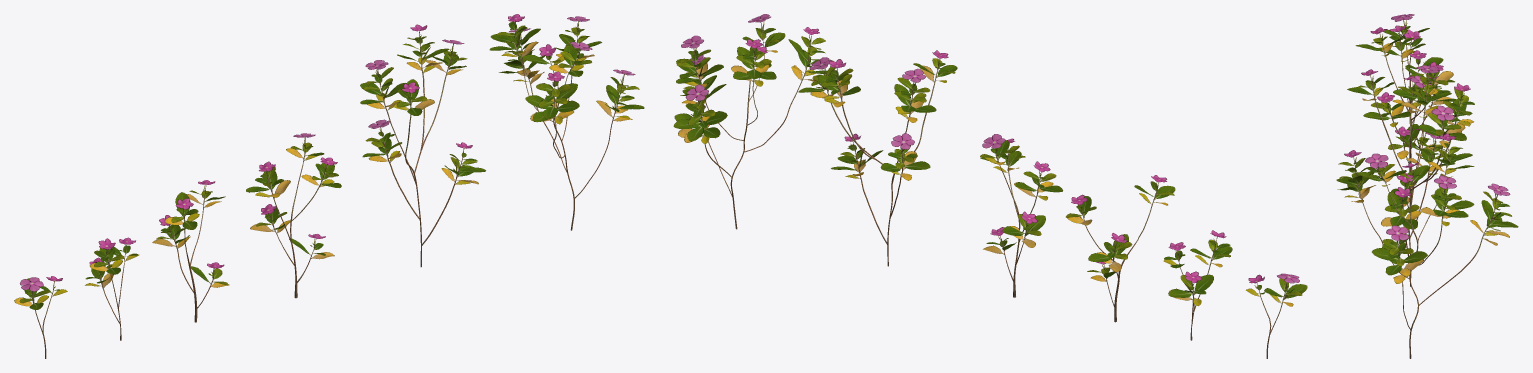
File: periwinkle_plant_2k.gltf
The picture shows the model from 3 angles, left to right: view 1: azimuth 30°, elevation 25°; view 2: azimuth 150°, elevation 25°; view 3: azimuth 270°, elevation 25°; orthographic projection. The views are drawn at different scales.
Visible parts, largest first — view 1: periwinkle_plant_01_LOD0, periwinkle_plant_02_LOD0, periwinkle_plant_03_LOD0, periwinkle_plant_04_LOD0, periwinkle_plant_05_LOD0, periwinkle_plant_06_LOD0; view 2: periwinkle_plant_01_LOD0, periwinkle_plant_02_LOD0, periwinkle_plant_03_LOD0, periwinkle_plant_04_LOD0, periwinkle_plant_05_LOD0, periwinkle_plant_06_LOD0; view 3: periwinkle_plant_01_LOD0, periwinkle_plant_02_LOD0, periwinkle_plant_03_LOD0, periwinkle_plant_04_LOD0, periwinkle_plant_05_LOD0, periwinkle_plant_06_LOD0.
Boxes of the visible parts, x1,y1,x2,y2 form: periwinkle_plant_01_LOD0: [489, 14, 644, 230]; periwinkle_plant_02_LOD0: [360, 24, 485, 267]; periwinkle_plant_03_LOD0: [246, 133, 341, 298]; periwinkle_plant_04_LOD0: [152, 180, 229, 322]; periwinkle_plant_05_LOD0: [85, 237, 138, 340]; periwinkle_plant_06_LOD0: [14, 276, 67, 358]; periwinkle_plant_01_LOD0: [673, 14, 833, 229]; periwinkle_plant_02_LOD0: [798, 50, 957, 266]; periwinkle_plant_03_LOD0: [980, 134, 1062, 297]; periwinkle_plant_04_LOD0: [1066, 175, 1175, 322]; periwinkle_plant_05_LOD0: [1163, 230, 1232, 340]; periwinkle_plant_06_LOD0: [1246, 273, 1307, 358]; periwinkle_plant_01_LOD0: [1336, 133, 1518, 358]; periwinkle_plant_02_LOD0: [1347, 65, 1474, 286]; periwinkle_plant_03_LOD0: [1363, 75, 1440, 207]; periwinkle_plant_04_LOD0: [1355, 27, 1455, 171]; periwinkle_plant_05_LOD0: [1377, 25, 1454, 123]; periwinkle_plant_06_LOD0: [1383, 14, 1429, 103].
Bounding box in the file's own units: 1.24 × 0.4107 × 0.3207.
1 material, 1 textured.
